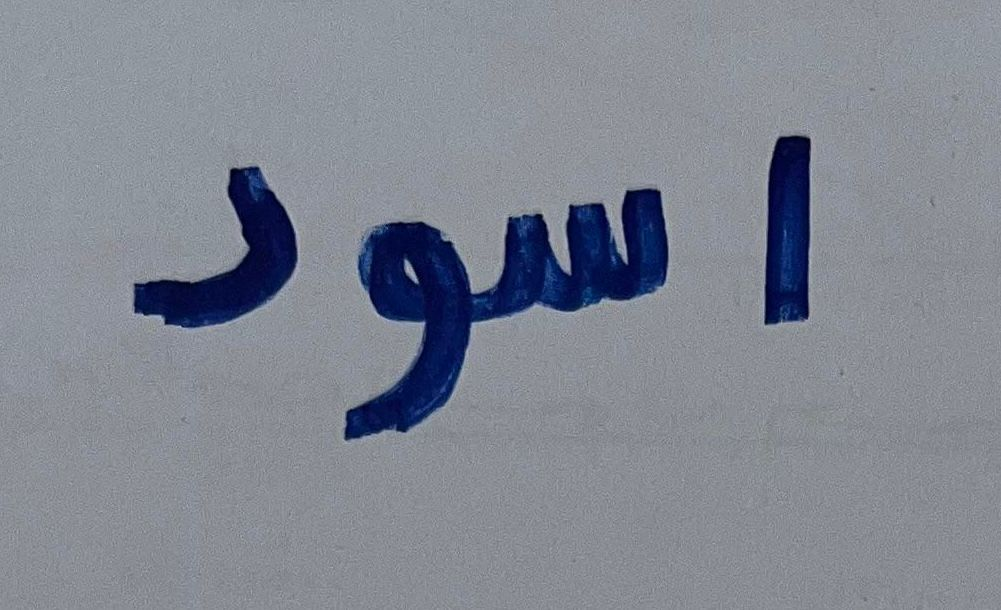dal: (105, 129, 317, 368)
ghain: (739, 96, 865, 377)
seen: (490, 120, 695, 344)
waw: (331, 200, 484, 475)
